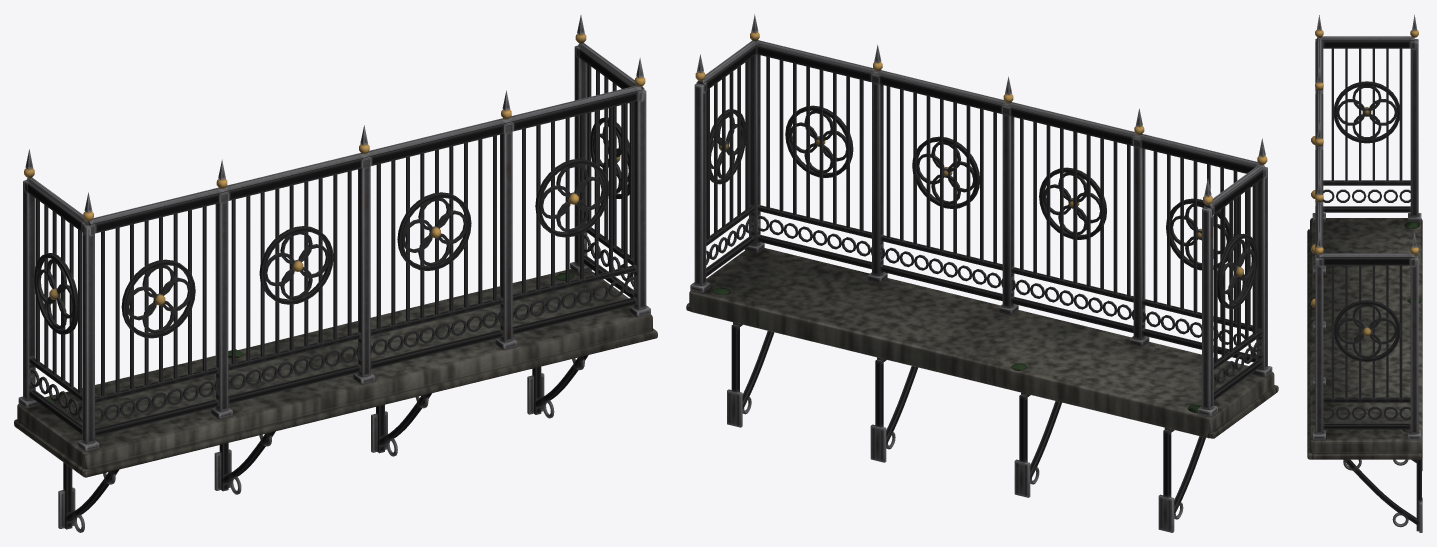
File: IronBalcony.fbx
3 renders of one model, left to right at view 1: azimuth 30°, elevation 25°; view 2: azimuth 150°, elevation 25°; view 3: azimuth 270°, elevation 25°, orthographic. The views are drawn at different scales.
Parts seen in each view (by area): view 1: IronBalcony; view 2: IronBalcony; view 3: IronBalcony.
Part boxes in pixels (<box>): IronBalcony: <box>14,15,657,532</box>; IronBalcony: <box>686,14,1278,532</box>; IronBalcony: <box>1307,15,1422,532</box>.
Size of the model in its own units: 808 by 526 by 174.
